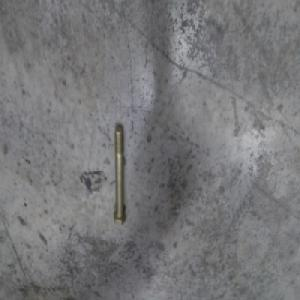Bolt: (110, 123, 128, 228)
